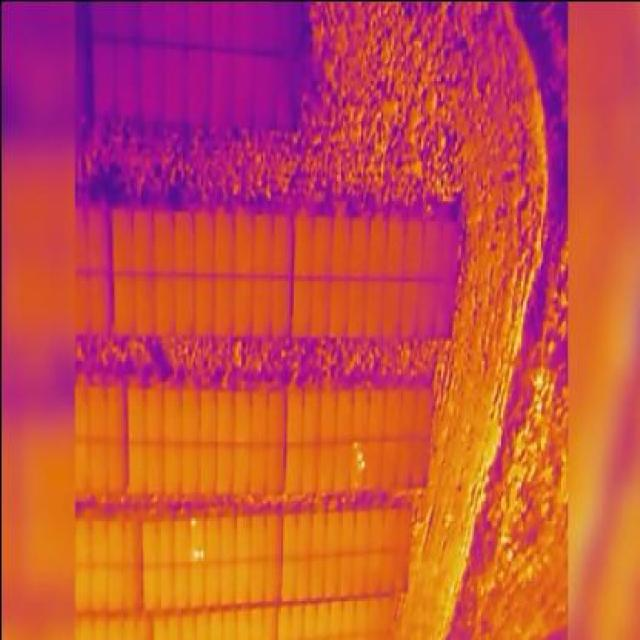hotspot: (357, 454, 365, 469), (190, 514, 196, 528), (350, 436, 356, 446), (194, 550, 198, 559), (200, 545, 202, 560)
